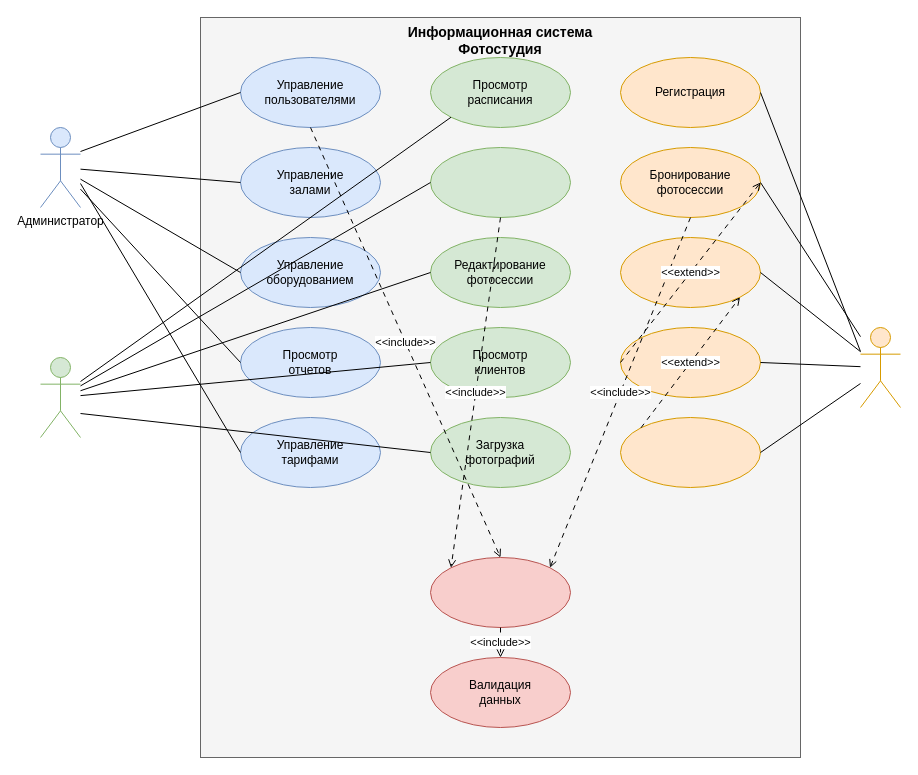
The diagram is 918 pixels wide and 775 high, and some of its shapes have lost their labels. The centre of each missing label's shape, as x and y in pixels:
"Авторизация" belongs at (500,592).
"Клиент" belongs at (880,367).
"Оплата услуг" belongs at (690,362).
"Просмотр заказов" belongs at (690,272).
"Просмотр фотографий" belongs at (690,452).
"Создание фотосессии" belongs at (500,182).
"Фотограф" belongs at (60,397).
